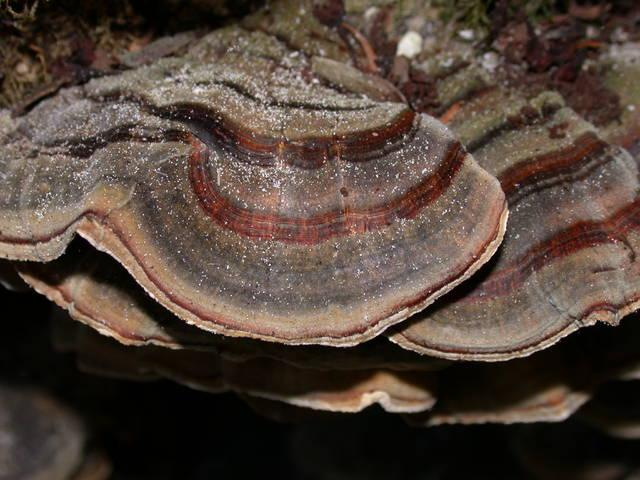poisonous_mushroom: (241, 1, 640, 434), (0, 23, 511, 352)
